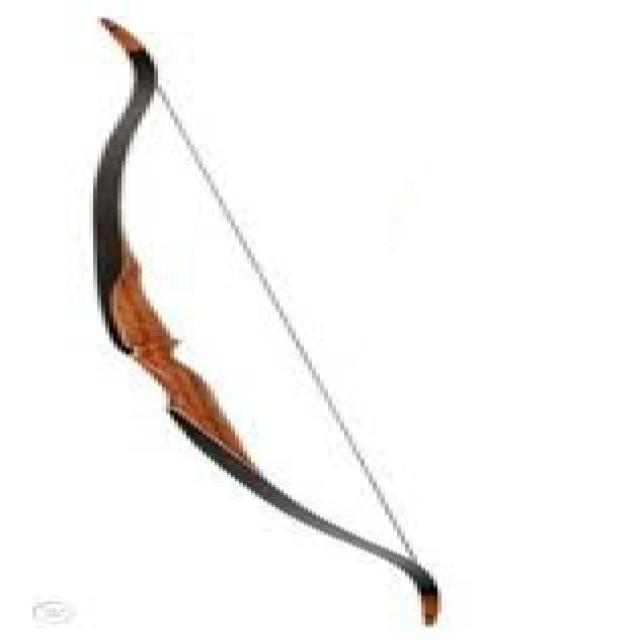X-Bow: (84, 8, 450, 629)
